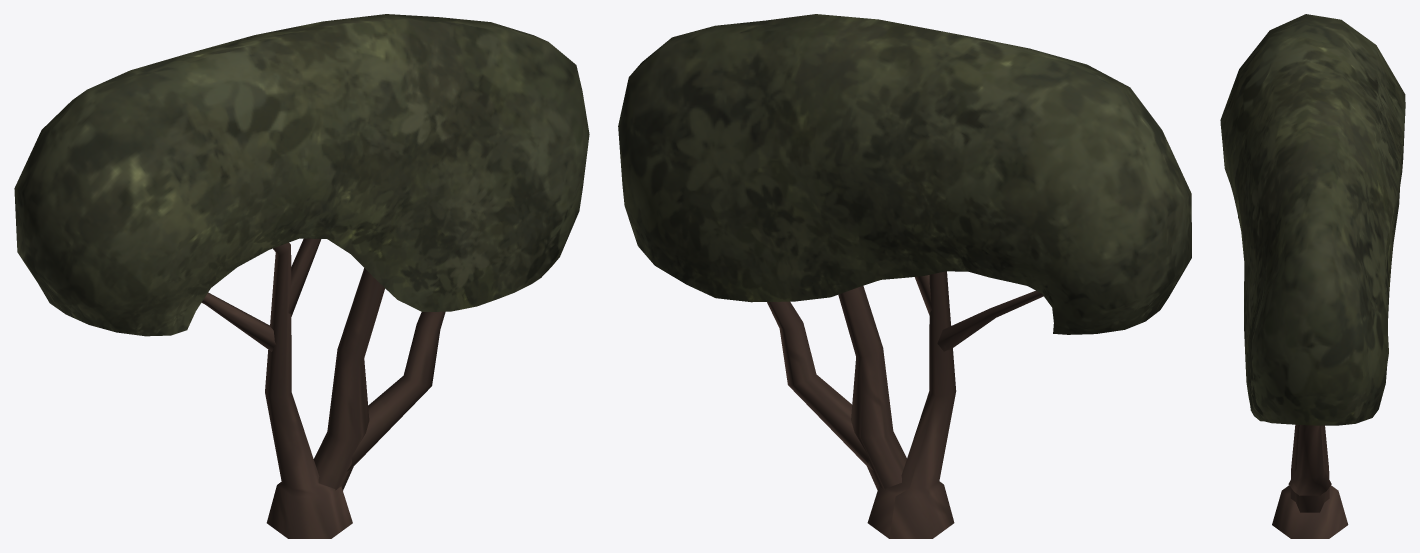
The model's file is ArvorePequenaPampas.fbx.
3 renders of one model, left to right at view 1: azimuth 30°, elevation 25°; view 2: azimuth 150°, elevation 25°; view 3: azimuth 270°, elevation 25°, orthographic. The views are drawn at different scales.
Visible parts, largest first — view 1: ArvorePequenaPampas; view 2: ArvorePequenaPampas; view 3: ArvorePequenaPampas.
Part boxes in pixels (left/top/right/bottom): ArvorePequenaPampas: left=14, top=14, right=589, bottom=538; ArvorePequenaPampas: left=618, top=14, right=1191, bottom=538; ArvorePequenaPampas: left=1220, top=14, right=1405, bottom=538.
Size of the model in its own units: 120 by 104 by 39.97.
